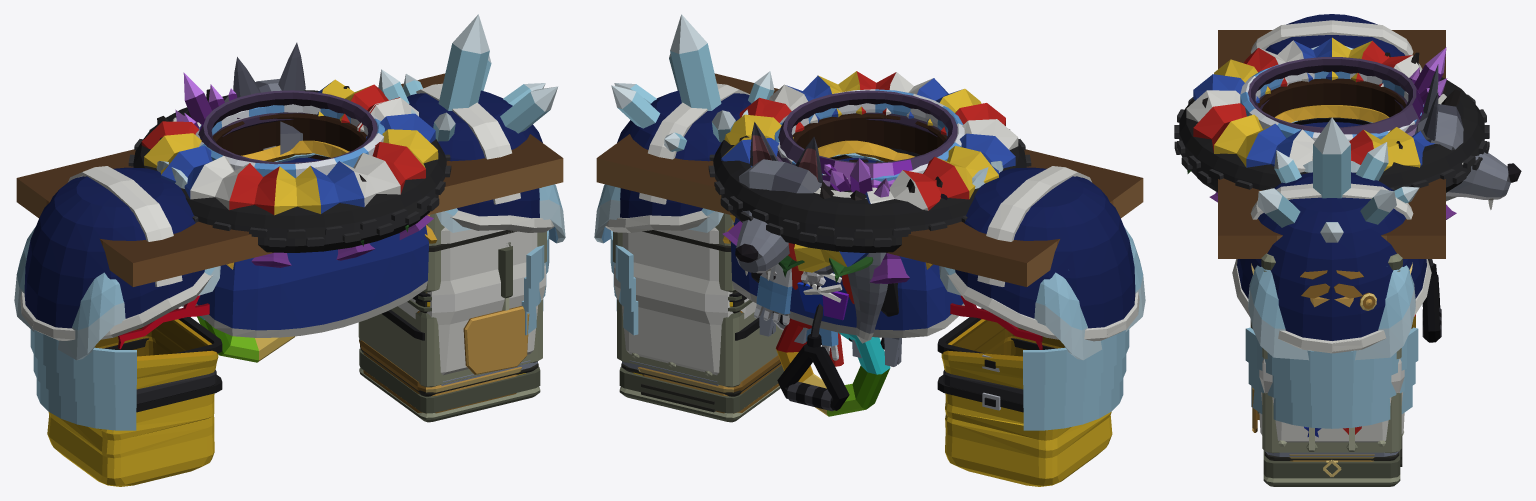
File: kit_arms.glb
The picture shows the model from 3 angles, left to right: view 1: azimuth 30°, elevation 25°; view 2: azimuth 150°, elevation 25°; view 3: azimuth 270°, elevation 25°; orthographic projection. The views are drawn at different scales.
Visible parts, largest first — view 1: VW_GiantsBelt__Cap_M, VW_GiantsBelt, VW_ChoirBell, VW_BogKettle_M, VW_PenitentsChain, VW_CrackedPhial__Cap_M, VW_Armourbreaker, VW_AnvilRing, VW_MartyrsBrand, VW_GiantsBelt__Cap, VW_FrostKnuckle, VW_VenomGland (+9 smaller); view 2: VW_GiantsBelt__Cap_M, VW_BogKettle_M, VW_PenitentsChain, VW_CrackedPhial__Cap_M, VW_ChoirBell, VW_MartyrsBrand, VW_AnvilRing, VW_Armourbreaker, VW_ThornedFocus, VW_GiantsBelt__Cap, VW_GiantsBelt, VW_CorruptedGorget (+11 smaller); view 3: VW_GiantsBelt__Cap, VW_CrackedPhial__Cap, VW_ChoirBell, VW_PenitentsChain, VW_AnvilRing, VW_Armourbreaker, VW_FrostKnuckle, VW_CorruptedGorget, VW_ThornedFocus, VW_GiantsBelt__Cap_M, VW_BriarCollar, VW_MartyrsBrand (+5 smaller).
Boxes of the visible parts, box(x1,y1,x2,y2) form: VW_GiantsBelt__Cap_M: box(20, 166, 212, 340); VW_GiantsBelt: box(195, 157, 428, 337); VW_ChoirBell: box(141, 79, 438, 215); VW_BogKettle_M: box(47, 319, 218, 486); VW_PenitentsChain: box(16, 73, 563, 286); VW_CrackedPhial__Cap_M: box(14, 161, 222, 430); VW_Armourbreaker: box(358, 213, 546, 422); VW_AnvilRing: box(128, 90, 451, 252); VW_MartyrsBrand: box(398, 227, 545, 385); VW_GiantsBelt__Cap: box(407, 83, 554, 232); VW_FrostKnuckle: box(378, 14, 558, 141); VW_VenomGland: box(359, 187, 541, 413); VW_GiantsBelt__Cap_M: box(947, 166, 1139, 341); VW_BogKettle_M: box(941, 319, 1112, 486); VW_PenitentsChain: box(596, 73, 1143, 286); VW_CrackedPhial__Cap_M: box(937, 161, 1145, 430); VW_ChoirBell: box(721, 71, 1018, 272); VW_MartyrsBrand: box(614, 227, 756, 385); VW_AnvilRing: box(708, 129, 1031, 252); VW_Armourbreaker: box(613, 213, 783, 422); VW_ThornedFocus: box(735, 122, 887, 343); VW_GiantsBelt__Cap: box(605, 83, 751, 232); VW_GiantsBelt: box(731, 157, 964, 337); VW_CorruptedGorget: box(776, 90, 957, 197); VW_GiantsBelt__Cap: box(1232, 172, 1431, 353); VW_CrackedPhial__Cap: box(1245, 161, 1418, 428); VW_ChoirBell: box(1186, 37, 1456, 201); VW_PenitentsChain: box(1218, 30, 1445, 258); VW_AnvilRing: box(1174, 77, 1489, 192); VW_Armourbreaker: box(1250, 253, 1403, 486); VW_FrostKnuckle: box(1257, 117, 1419, 242); VW_CorruptedGorget: box(1248, 47, 1447, 136); VW_ThornedFocus: box(1415, 64, 1521, 209); VW_GiantsBelt__Cap_M: box(1251, 14, 1413, 56); VW_BriarCollar: box(1258, 78, 1405, 117); VW_MartyrsBrand: box(1259, 359, 1404, 456).
Size of the model in its own units: 4.92 by 3.34 by 2.94.
